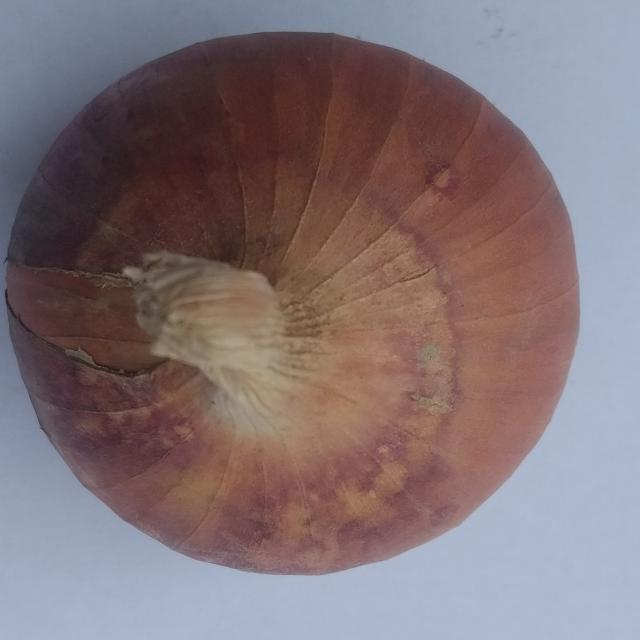onion: (3, 30, 583, 577)
